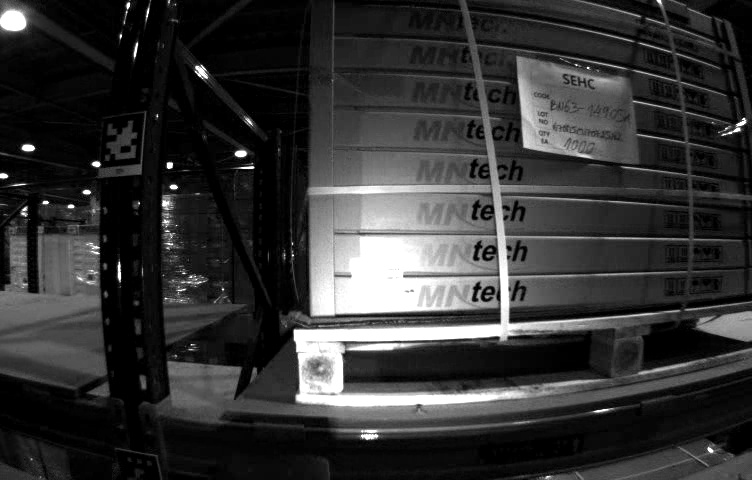True Barcode: (350, 258, 405, 301)
